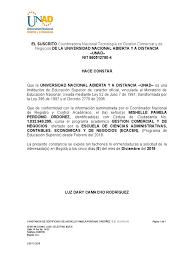certificado: (0, 0, 193, 258)
firma: (54, 173, 136, 197)
institucion: (18, 6, 56, 36), (38, 80, 154, 88)
nombre: (24, 114, 113, 120), (128, 109, 171, 115)
titulo: (26, 118, 170, 128)
